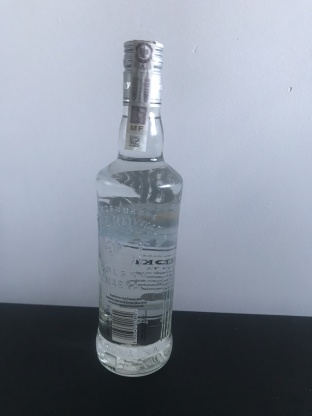nakretka: (120, 36, 165, 112)
